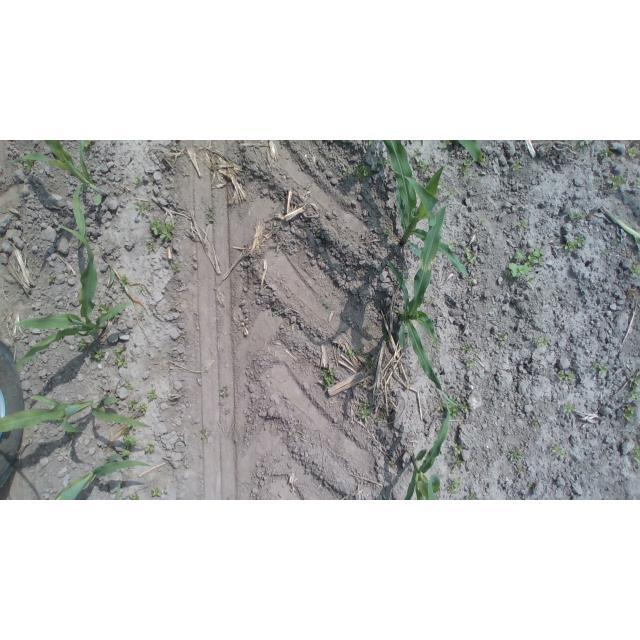Maize: (11, 225, 134, 373), (384, 141, 476, 284), (386, 202, 452, 394), (26, 140, 108, 252), (3, 393, 157, 438), (402, 397, 457, 500), (47, 452, 157, 501)
Weeds: (504, 252, 531, 280), (436, 392, 460, 418), (152, 220, 175, 240), (321, 365, 337, 388), (528, 248, 547, 266), (357, 402, 373, 423), (115, 347, 129, 370), (413, 150, 428, 171), (446, 476, 462, 495), (591, 360, 610, 376), (363, 357, 380, 374), (608, 173, 625, 190), (461, 158, 475, 178), (559, 372, 580, 385), (356, 164, 373, 180), (550, 445, 570, 458), (621, 403, 635, 421), (204, 205, 216, 226), (345, 346, 365, 358), (509, 449, 523, 464), (629, 264, 640, 283), (123, 433, 137, 447), (451, 441, 464, 456), (464, 249, 477, 264), (464, 489, 481, 500), (623, 391, 640, 402), (376, 411, 388, 426), (382, 223, 394, 238), (137, 202, 152, 214), (91, 348, 106, 360), (146, 387, 158, 402), (272, 304, 283, 320), (199, 428, 212, 441), (320, 300, 334, 312), (535, 336, 549, 348), (600, 148, 612, 161), (374, 156, 386, 169), (23, 158, 35, 171), (78, 339, 90, 352), (218, 386, 230, 399), (569, 141, 591, 148), (629, 146, 640, 160), (569, 211, 584, 221), (118, 274, 128, 289), (464, 358, 476, 370), (575, 235, 587, 247), (144, 442, 156, 454), (452, 458, 465, 469), (127, 399, 138, 412), (495, 333, 509, 343), (632, 445, 640, 462), (565, 240, 576, 252), (516, 219, 528, 230), (512, 161, 524, 172), (460, 342, 471, 354), (101, 303, 112, 315), (139, 402, 150, 414), (461, 402, 471, 415), (342, 166, 352, 179), (563, 404, 574, 415), (134, 176, 145, 187), (124, 379, 135, 390), (632, 375, 640, 389), (151, 486, 161, 497), (121, 447, 132, 457), (444, 140, 456, 148), (449, 240, 458, 250), (48, 276, 58, 285), (479, 216, 487, 227), (128, 493, 140, 500), (532, 420, 541, 429), (171, 262, 180, 271), (83, 140, 93, 148)
